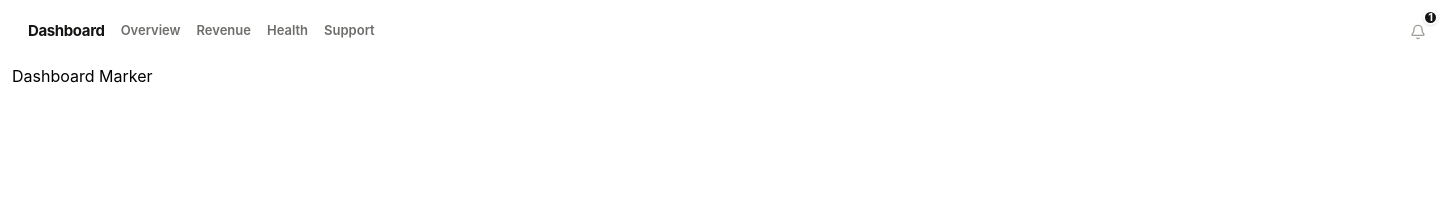
Test case: Navbar notification bell › clicking an unread notification marks it read and navigates to its real link
Click the button named "Notifications": point(1418, 32) [1400, 14, 1436, 50]
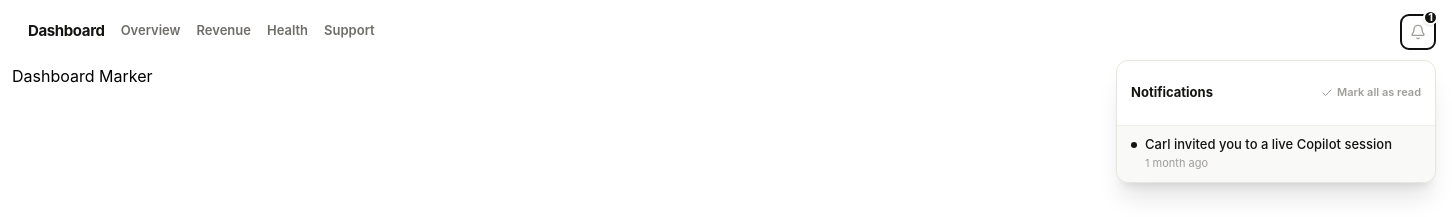
Click the text "Carl invited you to a live Copilot session": point(1268, 144) [1145, 136, 1392, 153]
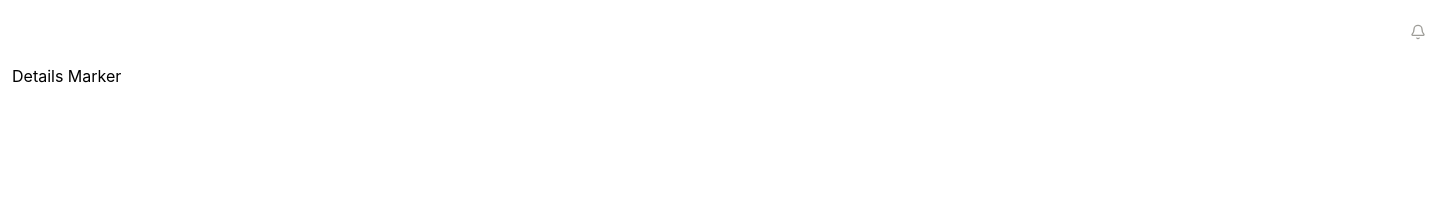
Now the text "Details Marker" is shown, box [12, 66, 121, 86]
